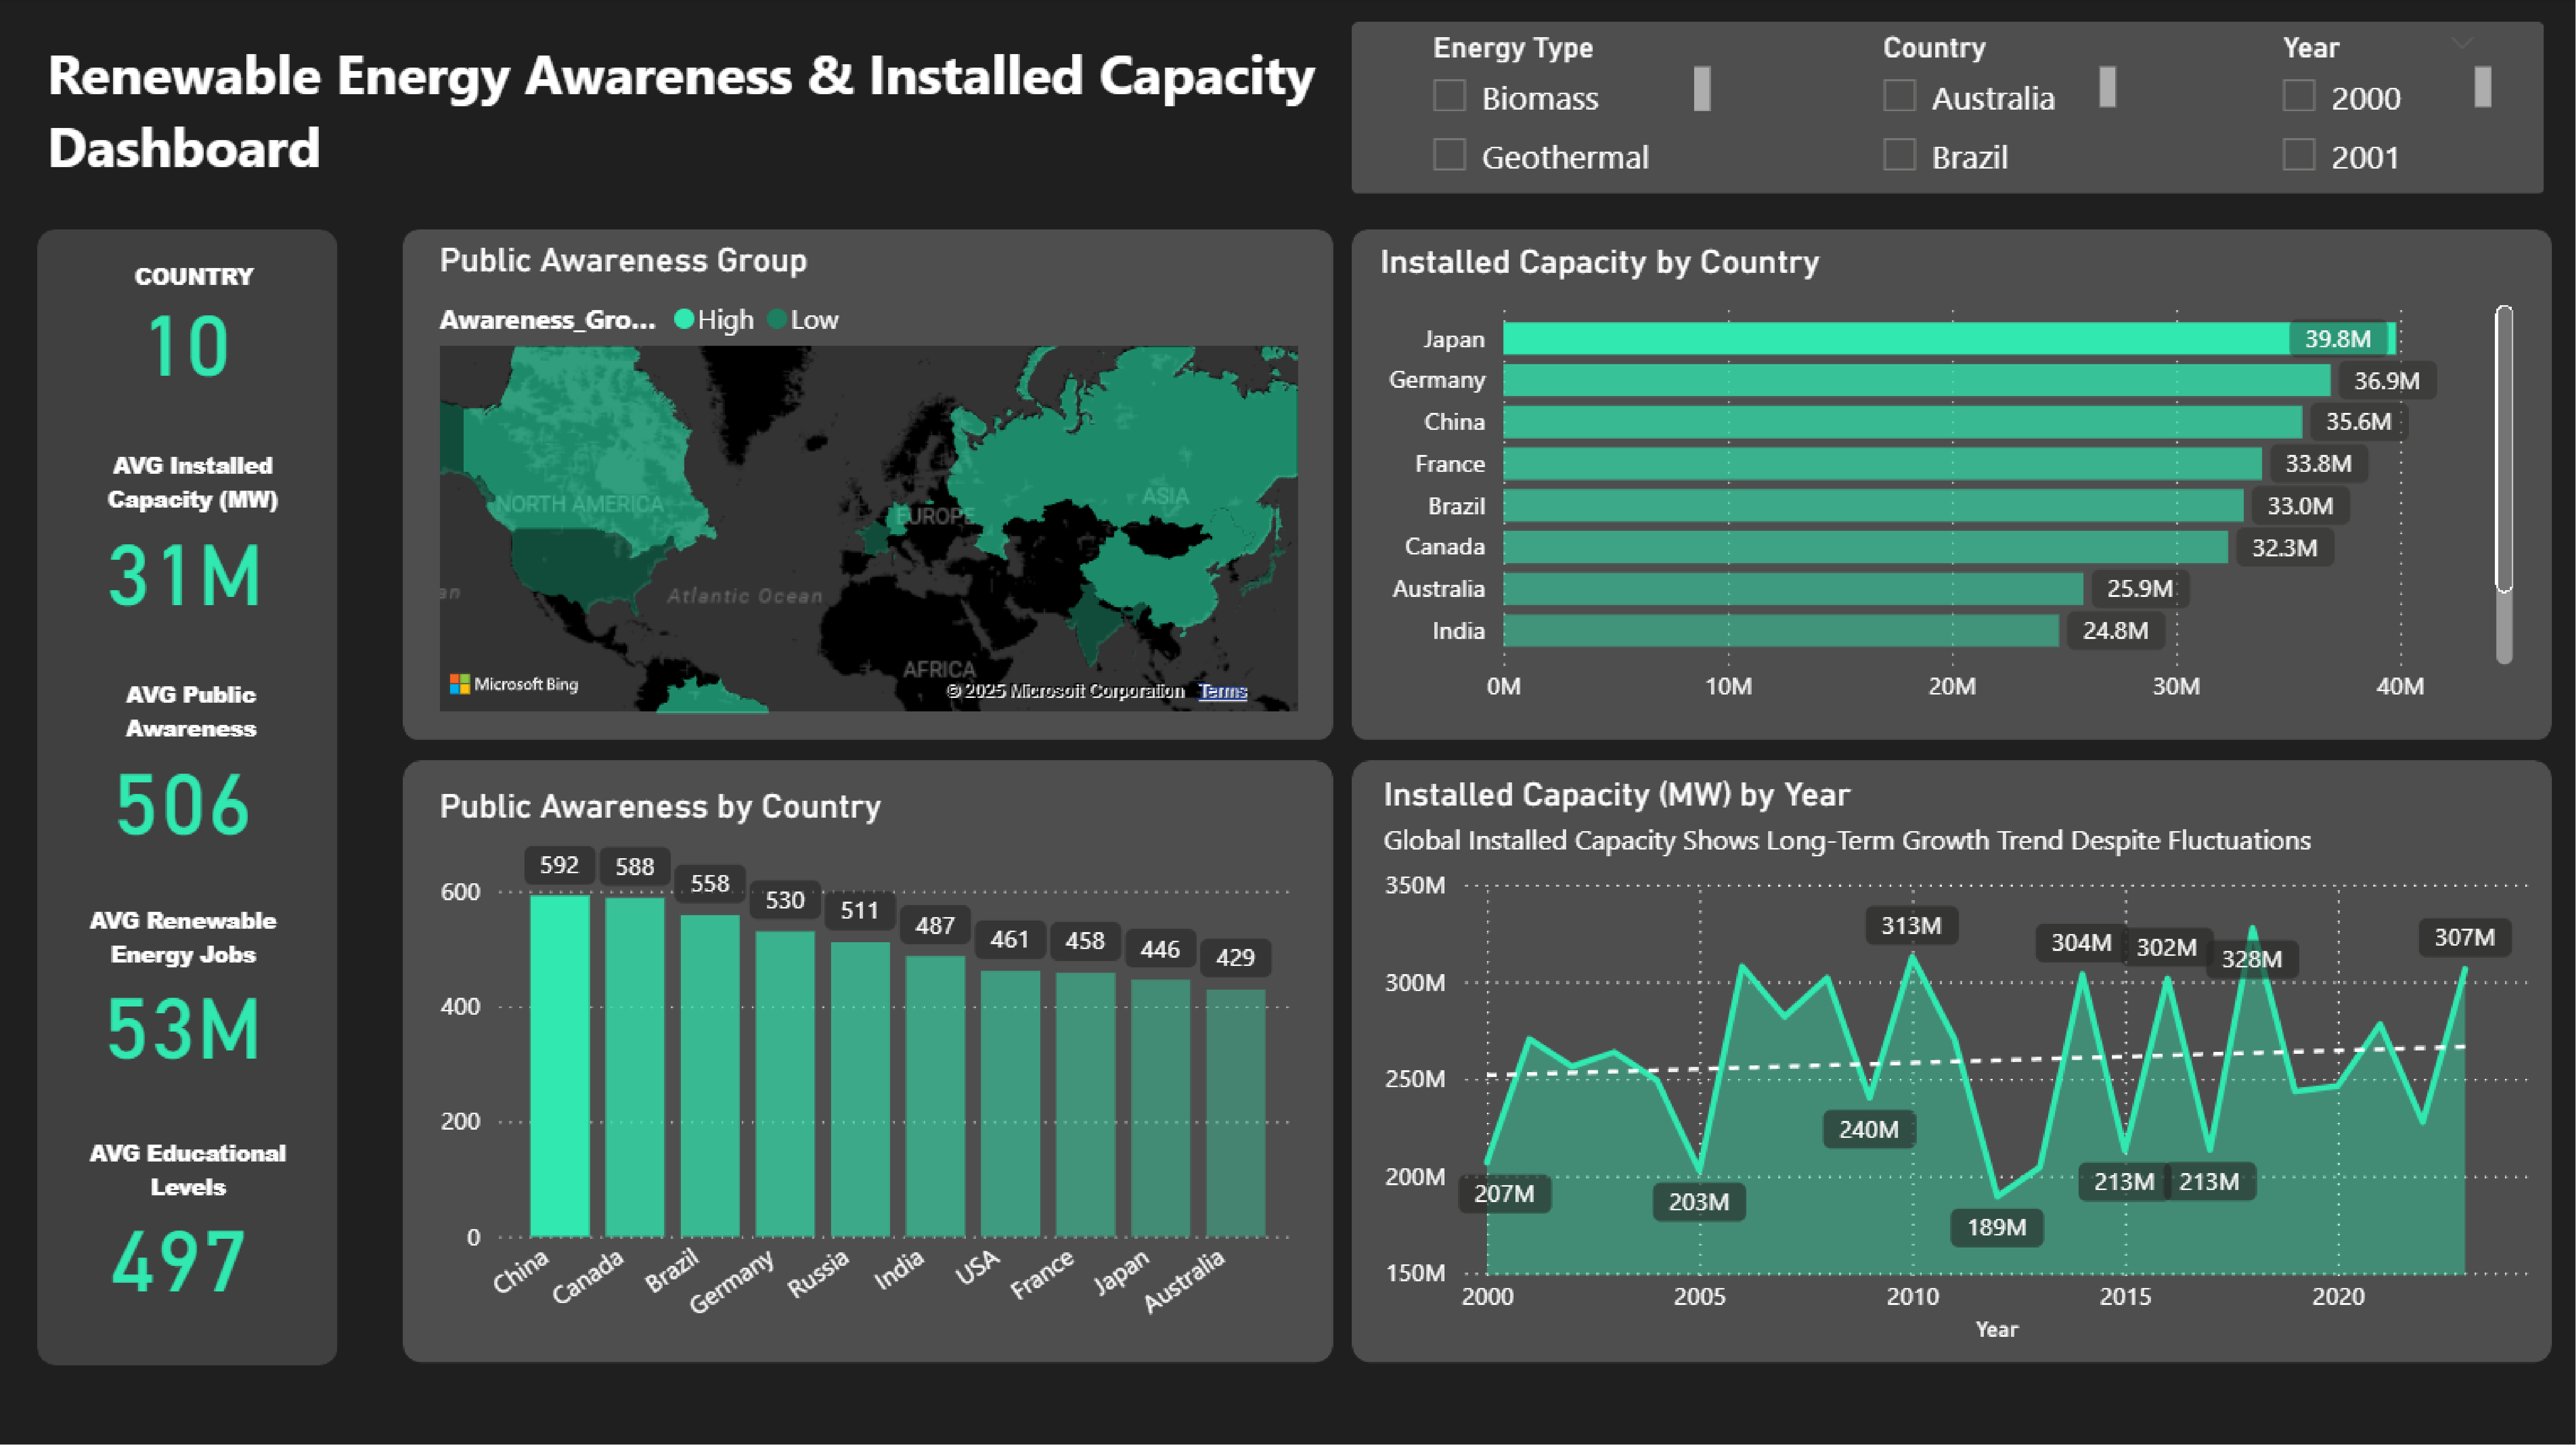

The page's visual inventory and layout, read from the dashboard file:
{"tool":"powerbi","page":{"name":"Main Dashborad","canvas":[1280,720],"ordinal":0},"visuals":[{"type":"shape","box":[671.5,12.6,590.7,85.3],"z":0},{"type":"shape","box":[671.4,115,594.7,253.2],"z":1000},{"type":"shape","box":[671.4,378.7,594.7,298.5],"z":2000},{"type":"shape","box":[200.9,378.7,461.1,298.5],"z":3000},{"type":"shape","box":[200.9,115,461.1,253.2],"z":4000},{"type":"shape","box":[19.8,114.9,149,562.9],"z":5000},{"type":"textbox","box":[19.7,13.9,660.9,83.6],"z":6000},{"type":"card","title":"Contry","fields":{"Values":["Count(df_2023_agg.Country)"]},"box":[28.7,105.1,130.2,127.5],"z":7000},{"type":"card","title":"Contry","fields":{"Values":["Avg(df_2023_agg.Installed_Capacity_MW)"]},"box":[27.9,219.1,131.1,126.6],"z":8000},{"type":"card","title":"Contry","fields":{"Values":["Avg(df_2023_agg.Public_Awareness)"]},"box":[26,333.2,131.1,124.8],"z":9000},{"type":"card","title":"Contry","fields":{"Values":["Avg(df_2023_agg.Renewable_Energy_Jobs)"]},"box":[25.9,443.5,131.1,126.6],"z":10000},{"type":"textbox","box":[32.3,123.9,130.6,37.2],"z":11000},{"type":"textbox","box":[31.5,217.2,131.1,50.3],"z":12000},{"type":"textbox","box":[30.5,330.6,131.1,53],"z":13000},{"type":"textbox","box":[30.4,442.5,124.8,50.3],"z":14000},{"type":"card","title":"Contry","fields":{"Values":["Avg(df_2023_agg.Educational_Level)"]},"box":[25.2,558.4,130.2,126.6],"z":15000},{"type":"textbox","box":[29.8,557.6,129.7,70.7],"z":16000},{"type":"clusteredBarChart","title":"Installed Capacity by Country","fields":{"Category":["df_2023_agg.Country"],"Y":["Sum(df_2023_agg.Installed_Capacity_MW)"]},"box":[680.5,121.2,571,238.8],"z":17000},{"type":"clusteredColumnChart","title":"Public Awareness by Country","fields":{"Category":["df_2023_agg.Country"],"Y":["Sum(df_2023_agg.Public_Awareness)"]},"box":[214.6,390.5,434.5,285.5],"z":18000},{"type":"lineChart","title":"Installed Capacity (MW) by Year","fields":{"Category":["Cleaned_Renewable_Energy.Year"],"Y":["Sum(Cleaned_Renewable_Energy.Installed Capacity (MW))"]},"box":[682.3,385.1,580,286.4],"z":19000},{"type":"filledMap","title":"Public Awareness Group","fields":{"Category":["df_2023_agg.Country"],"Series":["df_2023_agg.Awareness_Group"]},"box":[214.6,120.3,434.5,239.7],"z":20000},{"type":"slicer","fields":{"Values":["Cleaned_Renewable_Energy.Year"]},"box":[1119.7,12.1,120.9,85.7],"z":21000},{"type":"slicer","fields":{"Values":["Cleaned_Renewable_Energy.Country"]},"box":[922.2,12.1,133,85.7],"z":22000},{"type":"slicer","fields":{"Values":["Cleaned_Renewable_Energy.Energy Type"]},"box":[699.5,12.1,155.2,85.7],"z":23000}]}

Visuals, with their boxes in screenshot pixels (x1, y1, x2, y2), scaled from the page's 1280x720 canvas onto the 2576x1445 screenshot:
shape: l=1351, t=25, r=2540, b=197
shape: l=1351, t=231, r=2548, b=739
shape: l=1351, t=760, r=2548, b=1359
shape: l=404, t=760, r=1332, b=1359
shape: l=404, t=231, r=1332, b=739
shape: l=40, t=230, r=340, b=1360
textbox: l=40, t=28, r=1370, b=196
"Contry" card: l=58, t=211, r=320, b=467
"Contry" card: l=56, t=439, r=320, b=694
"Contry" card: l=52, t=669, r=316, b=919
"Contry" card: l=52, t=890, r=316, b=1144
textbox: l=65, t=249, r=328, b=323
textbox: l=63, t=436, r=327, b=537
textbox: l=61, t=664, r=325, b=770
textbox: l=61, t=888, r=312, b=989
"Contry" card: l=51, t=1120, r=313, b=1375
textbox: l=60, t=1119, r=321, b=1261
"Installed Capacity by Country" clusteredBarChart: l=1370, t=243, r=2519, b=722
"Public Awareness by Country" clusteredColumnChart: l=432, t=784, r=1306, b=1357
"Installed Capacity (MW) by Year" lineChart: l=1373, t=773, r=2540, b=1347
"Public Awareness Group" filledMap: l=432, t=241, r=1306, b=722
slicer - Cleaned_Renewable_Energy.Year: l=2253, t=24, r=2497, b=196
slicer - Cleaned_Renewable_Energy.Country: l=1856, t=24, r=2123, b=196
slicer - Cleaned_Renewable_Energy.Energy Type: l=1408, t=24, r=1720, b=196
